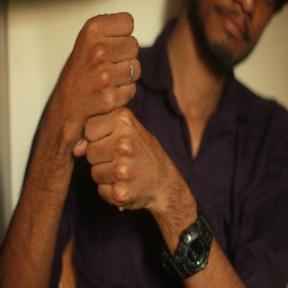G: (57, 6, 169, 215)
